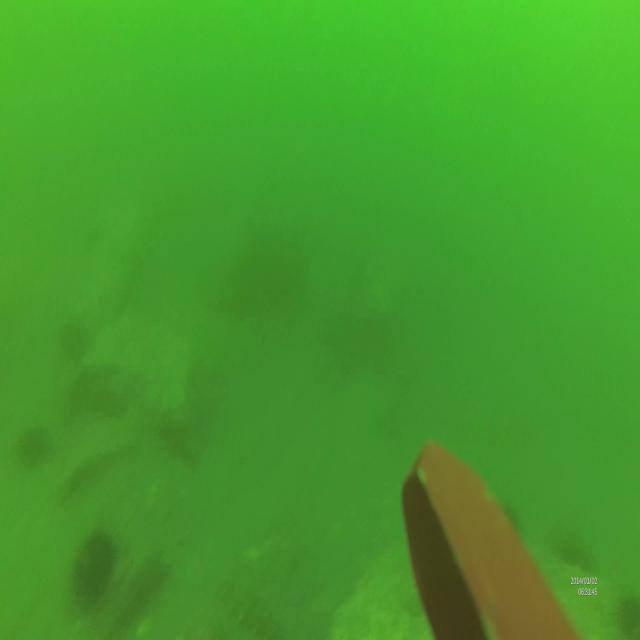echinus: (73, 535, 117, 604), (15, 425, 53, 474)
